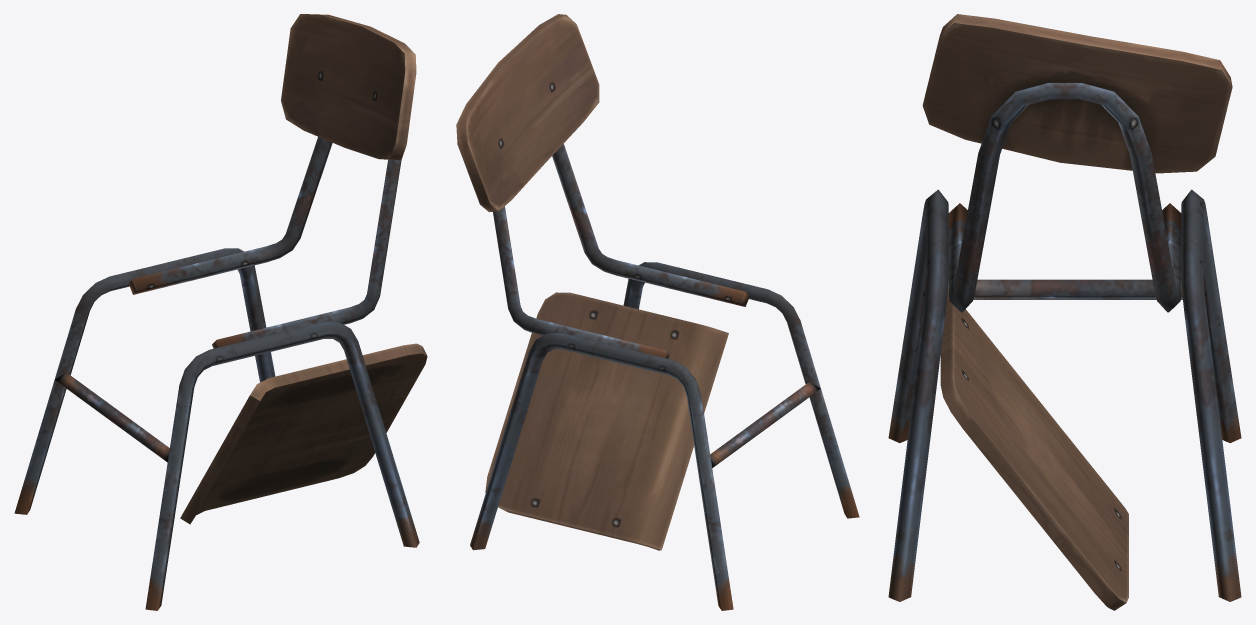
File: chair11_B.FBX
The picture shows the model from 3 angles, left to right: view 1: azimuth 30°, elevation 25°; view 2: azimuth 150°, elevation 25°; view 3: azimuth 270°, elevation 25°; orthographic projection. The views are drawn at different scales.
Parts seen in each view (by area): view 1: chair11_B; view 2: chair11_B; view 3: chair11_B.
Boxes of the visible parts, x1,y1,x2,y2 form: chair11_B: [14, 14, 427, 610]; chair11_B: [456, 14, 859, 610]; chair11_B: [888, 14, 1241, 610].
Size of the model in its own units: 59.74 by 88.33 by 47.09.
